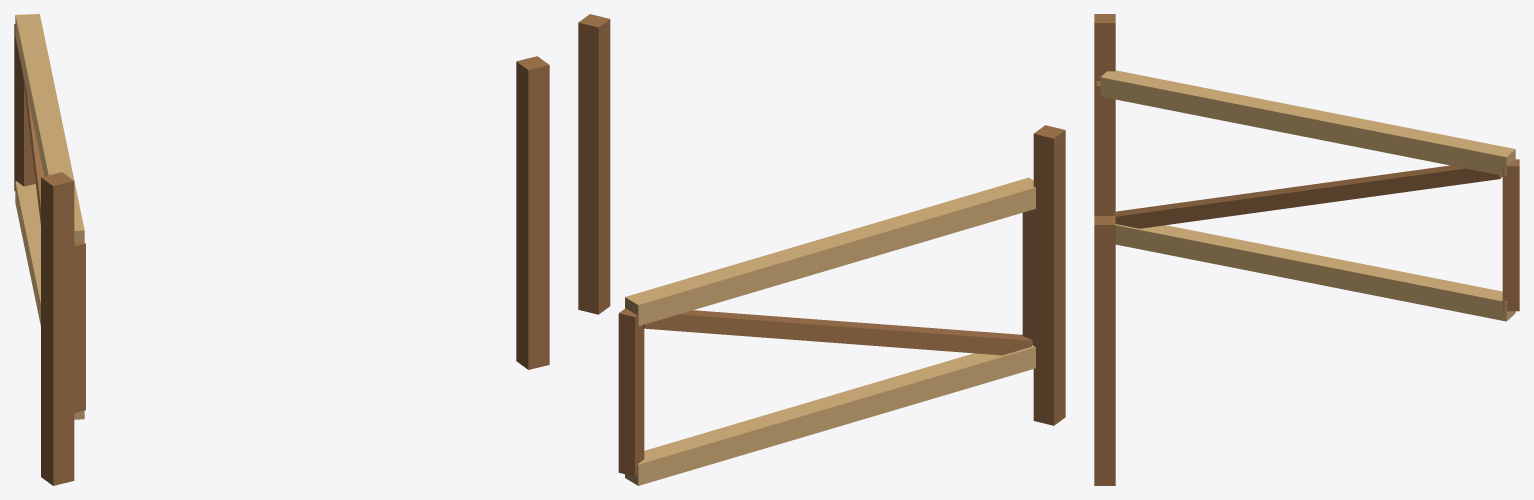
Rendered from TR3_Fence_Gate_Open.glb.
3 renders of one model, left to right at view 1: azimuth 30°, elevation 25°; view 2: azimuth 150°, elevation 25°; view 3: azimuth 270°, elevation 25°, orthographic. The views are drawn at different scales.
Visible parts, largest first — view 1: TR3_Fence_Gate_Open; view 2: TR3_Fence_Gate_Open; view 3: TR3_Fence_Gate_Open.
Boxes of the visible parts, box(x1,y1,x2,y2) form: TR3_Fence_Gate_Open: box(14, 14, 549, 485); TR3_Fence_Gate_Open: box(578, 14, 1065, 485); TR3_Fence_Gate_Open: box(1094, 14, 1519, 485).
Bounding box in the file's own units: 2.34 × 1.35 × 1.99.
